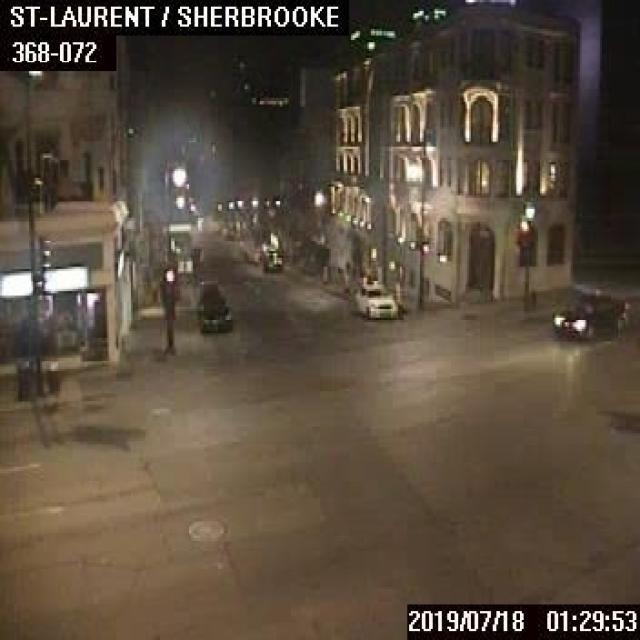vehicle: (549, 288, 624, 336), (192, 289, 232, 331), (354, 282, 396, 318), (264, 242, 284, 271), (176, 245, 193, 273)
